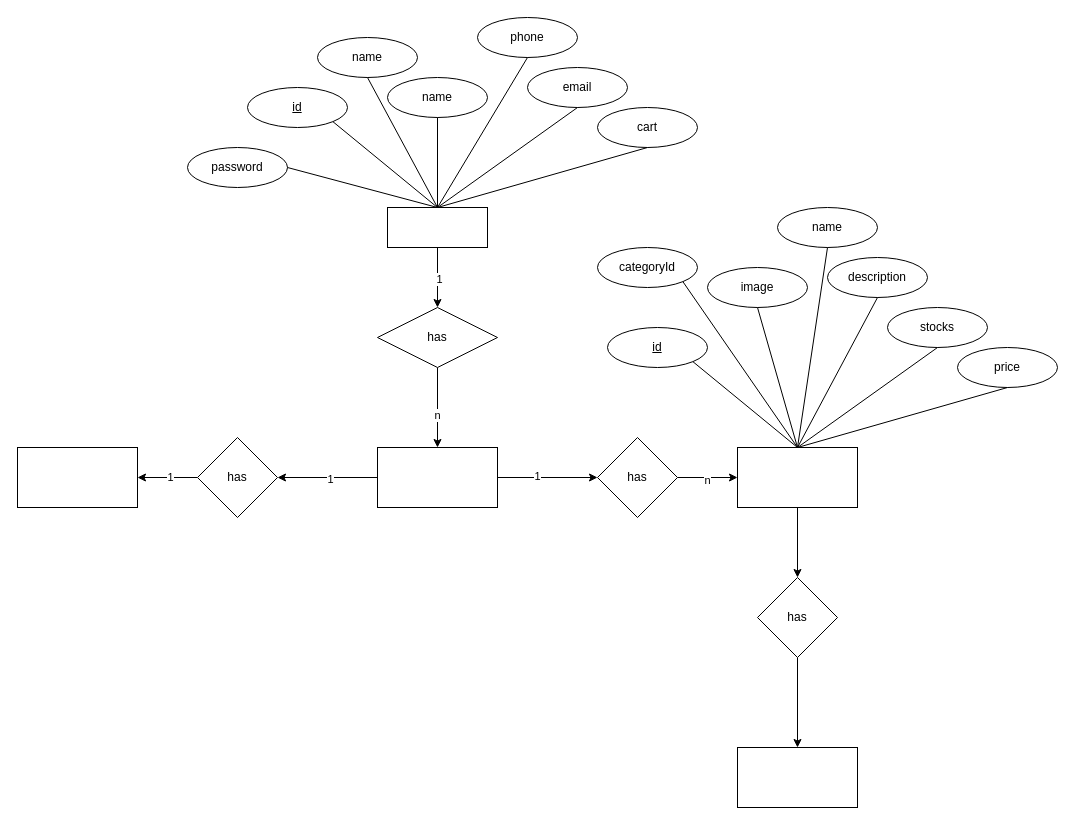
Image size: 1075x825. Some labels were removed from this diagram. Each missing label, with the centre of its shape:
"category" belongs at point (797, 777).
"order" belongs at point (437, 477).
"payment" belongs at point (77, 477).
"product" belongs at point (797, 477).
"user" belongs at point (437, 227).
